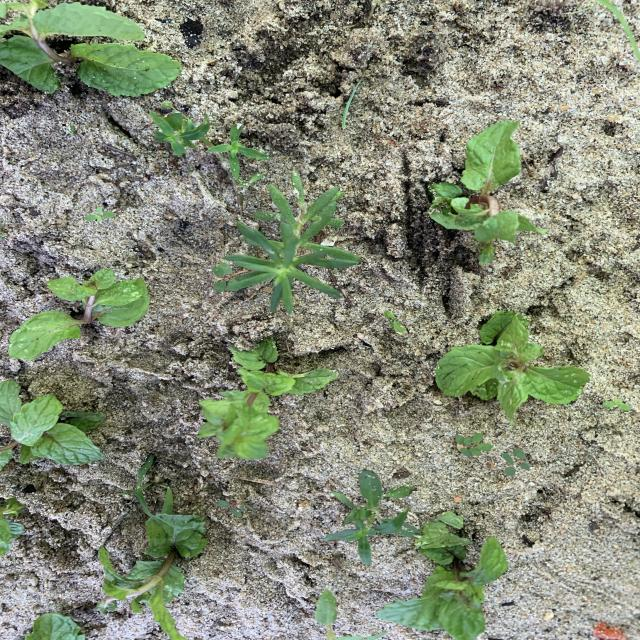crop: (2, 1, 181, 94), (428, 122, 546, 262), (435, 311, 589, 418), (378, 513, 507, 639), (199, 339, 335, 457), (96, 514, 207, 640), (10, 270, 150, 359), (0, 381, 104, 463), (25, 614, 84, 639), (1, 498, 23, 555)
weed: (214, 171, 360, 314), (431, 121, 544, 263), (326, 471, 413, 563), (314, 590, 384, 639), (210, 125, 269, 180), (151, 112, 209, 155), (597, 1, 639, 59), (125, 455, 155, 517), (342, 81, 362, 127), (455, 433, 491, 455), (502, 449, 530, 475), (217, 498, 251, 515), (383, 309, 405, 332), (85, 206, 115, 221), (604, 398, 631, 410), (96, 601, 115, 614), (161, 100, 174, 109)
